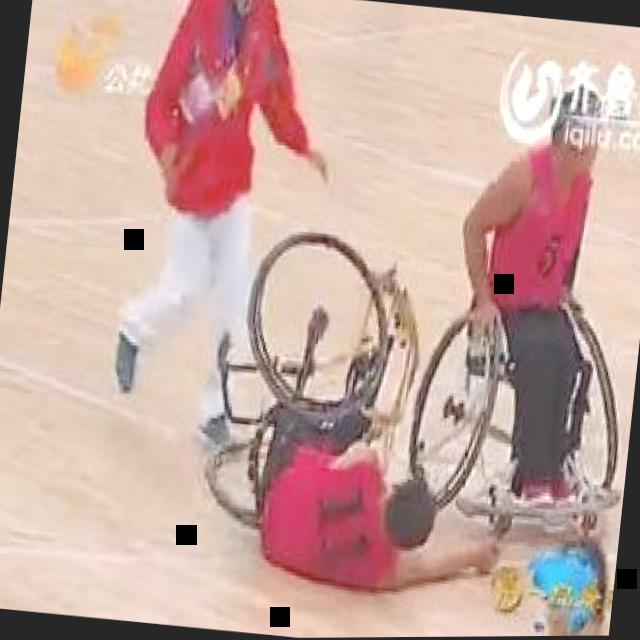Fall-Detected: (178, 354, 506, 619)
